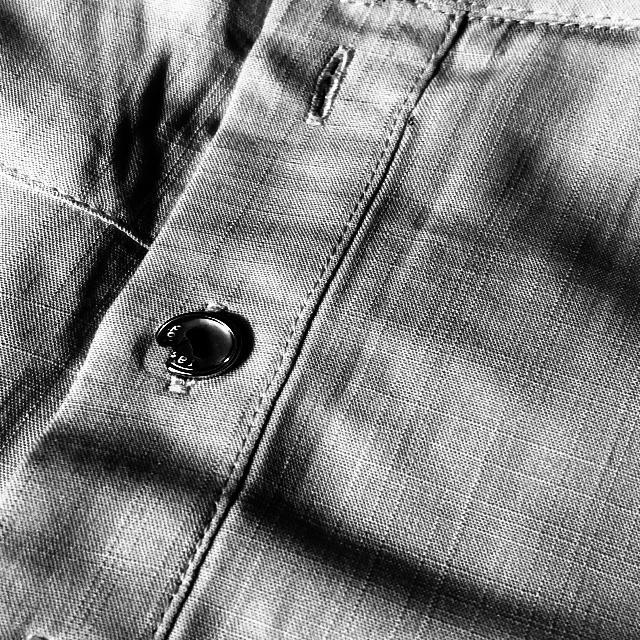Broken_button: (144, 304, 257, 387)
